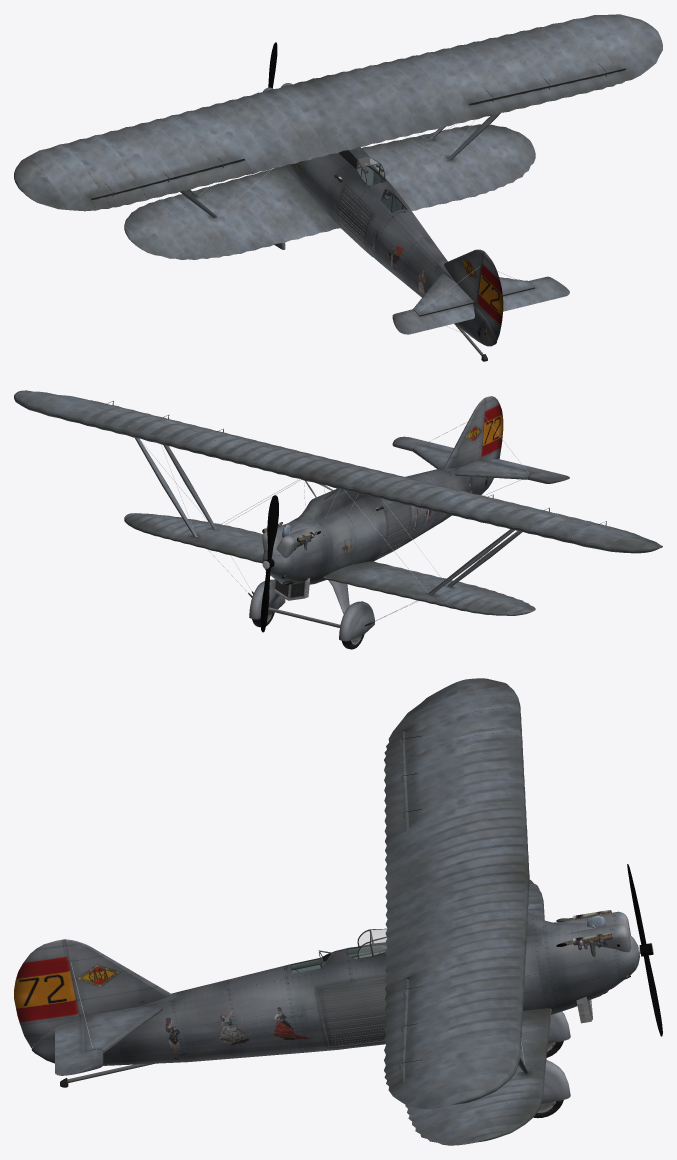
The model's file is avion_jgp.glb.
3 views of the same model, one above another, from view 1: azimuth 30°, elevation 25°; view 2: azimuth 150°, elevation 25°; view 3: azimuth 270°, elevation 25° (orthographic). The views are drawn at different scales.
Visible parts, largest first — view 1: Object_2, Object_15, Object_3, Object_17, Object_13; view 2: Object_2, Object_15, Object_5, Object_16, Object_17, Object_3, Object_12, Object_6, Object_14; view 3: Object_2, Object_15, Object_3, Object_5, Object_16, Object_17, Object_12, Object_14, Object_13.
Boxes of the visible parts, x1,y1,x2,y2 form: Object_2: [14, 14, 662, 315]; Object_15: [284, 153, 496, 346]; Object_3: [91, 70, 631, 341]; Object_17: [91, 63, 625, 361]; Object_13: [356, 156, 407, 213]; Object_2: [14, 390, 662, 615]; Object_15: [316, 398, 493, 583]; Object_5: [262, 518, 333, 584]; Object_16: [249, 488, 374, 641]; Object_17: [91, 400, 606, 627]; Object_3: [158, 396, 627, 531]; Object_12: [260, 495, 278, 632]; Object_6: [141, 416, 528, 629]; Object_14: [262, 522, 320, 584]; Object_2: [84, 678, 551, 1145]; Object_15: [31, 936, 545, 1065]; Object_3: [14, 731, 409, 1089]; Object_5: [533, 911, 639, 1014]; Object_16: [357, 912, 570, 1103]; Object_17: [33, 730, 653, 1087]; Object_12: [627, 864, 662, 1036]; Object_14: [556, 910, 630, 994]; Object_13: [291, 929, 629, 1048].
Size of the model in its own units: 15.88 by 3.94 by 10.37.
Materials: 19 (14 with a texture image).
